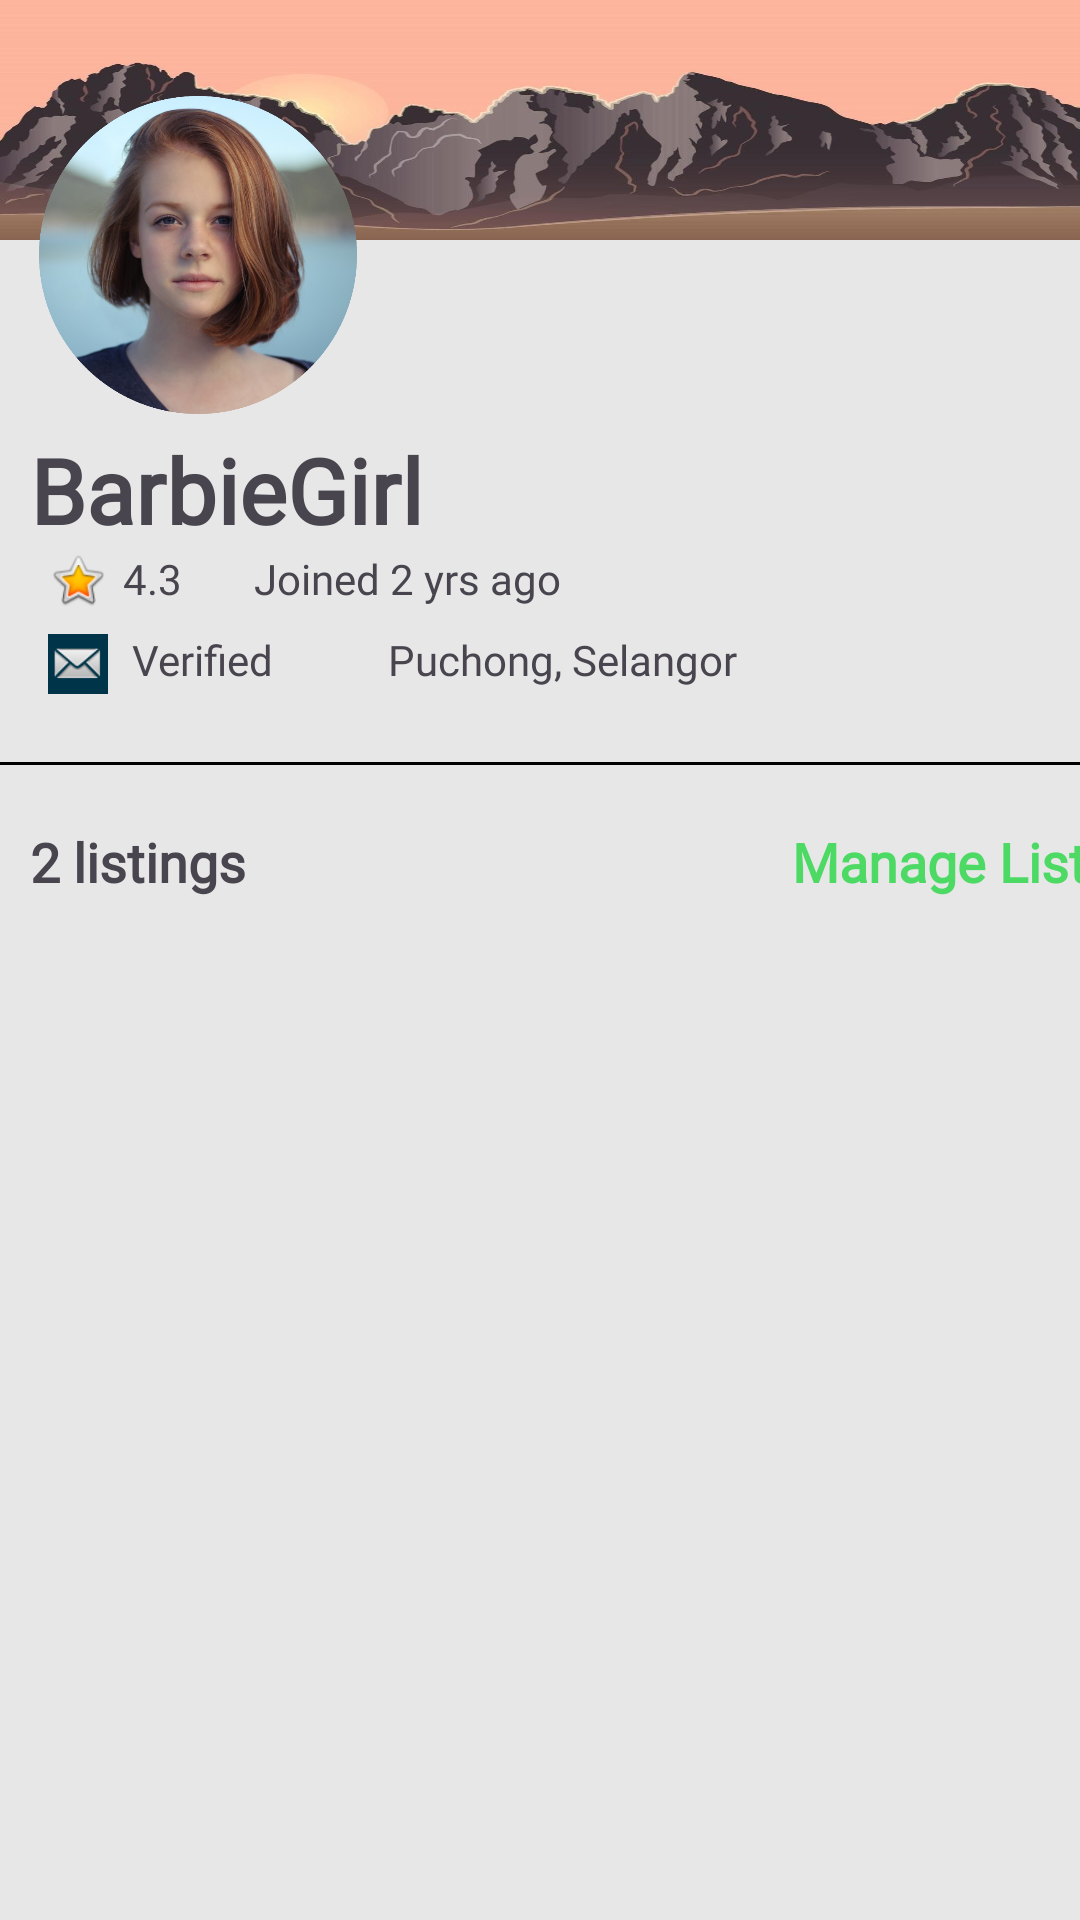

Icons on this 1080w x 1920h Android screen, each with the point to tap as (x=x, y=y):
blond female girl fotor: (x=198, y=255)
star on: (x=79, y=580)
sym action email: (x=78, y=664)
